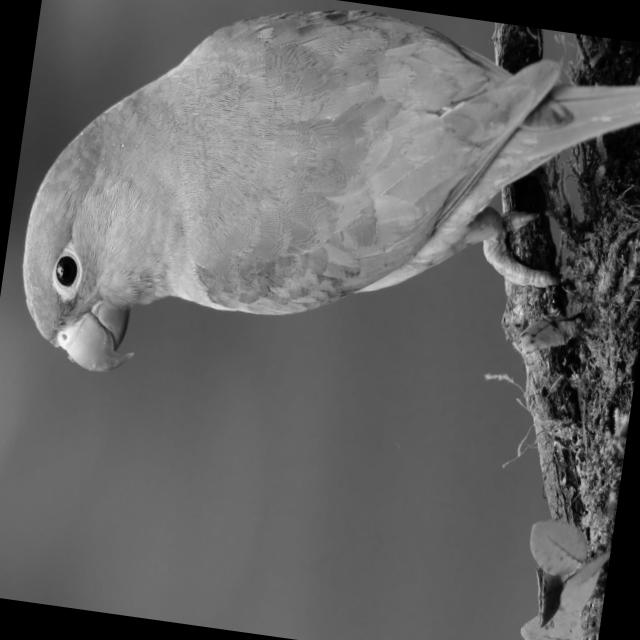Birds: (0, 0, 568, 464)
